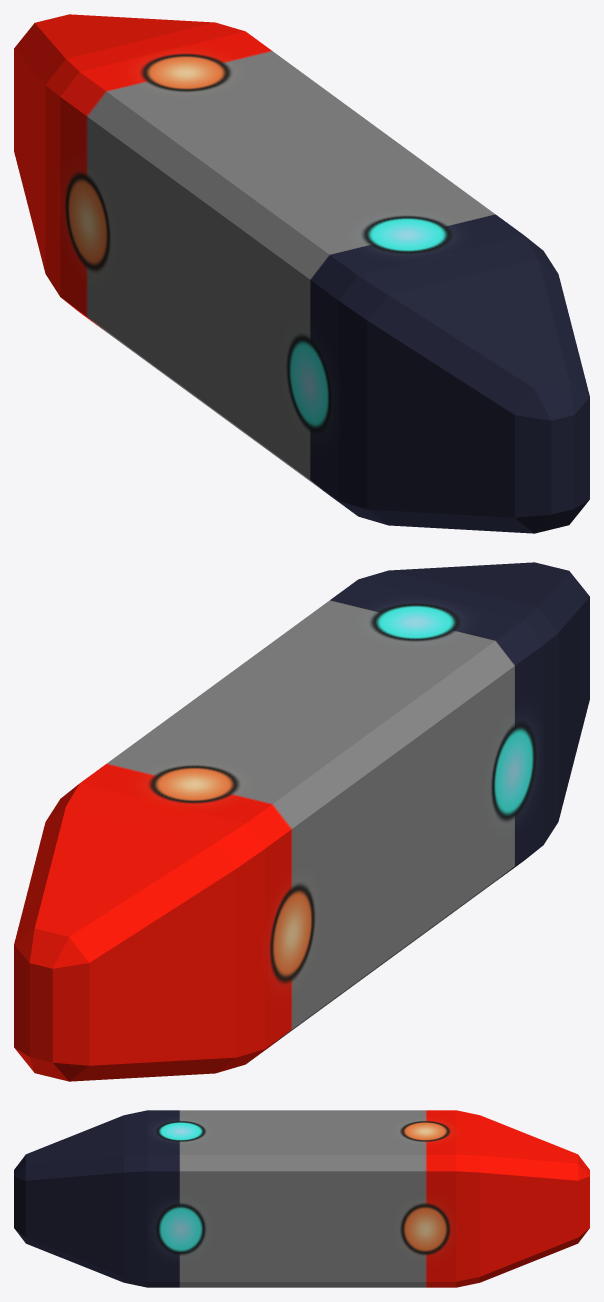
File: Board_Magnet.fbx
3 views of the same model, one above another, from view 1: azimuth 30°, elevation 25°; view 2: azimuth 150°, elevation 25°; view 3: azimuth 270°, elevation 25° (orthographic). The views are drawn at different scales.
Visible parts, largest first — view 1: Board_Magnet; view 2: Board_Magnet; view 3: Board_Magnet.
Boxes of the visible parts, x1,y1,x2,y2 form: Board_Magnet: (14,14,589,533); Board_Magnet: (14,562,589,1081); Board_Magnet: (14,1110,589,1287).
Size of the model in its own units: 33.94 by 38.15 by 150.
Materials: 1 (1 with a texture image).
